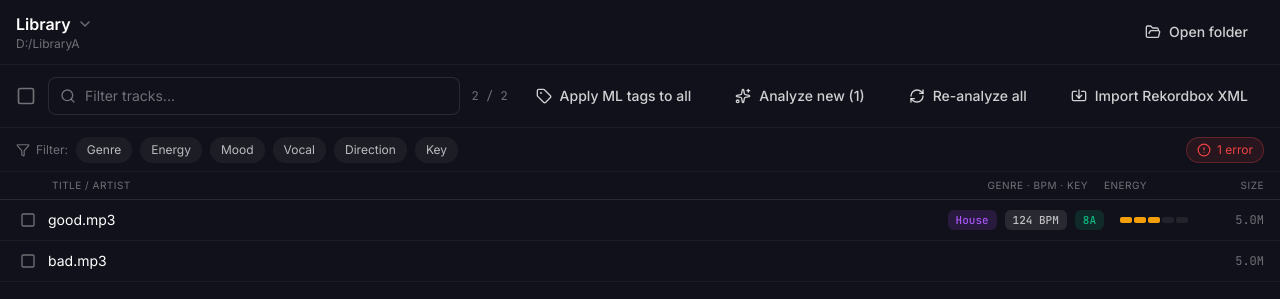
Test: <LibraryBrowser /> — state reset on library switch › clears the errors-only filter when switching to a clean library (bug #1)
Click the button "1 error" at (1225, 150), box [1186,136,1264,162]
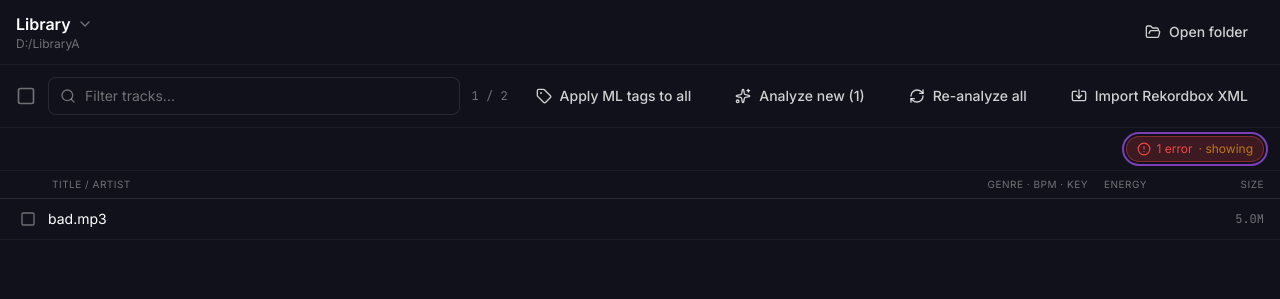
Result: the text "1 / 2" is shown at [472,88,508,104]
Click the button "Library" at (54, 24), box [16,12,93,36]
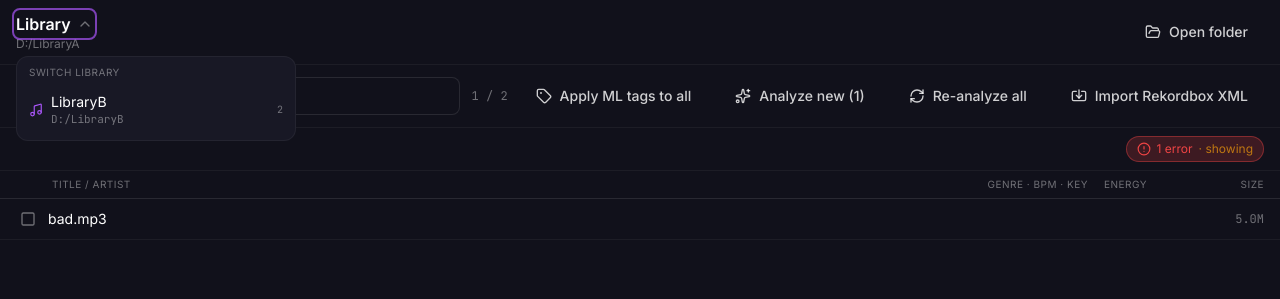
Click the option "LibraryB D:/LibraryB 2" at (79, 102), box [21,84,291,136]
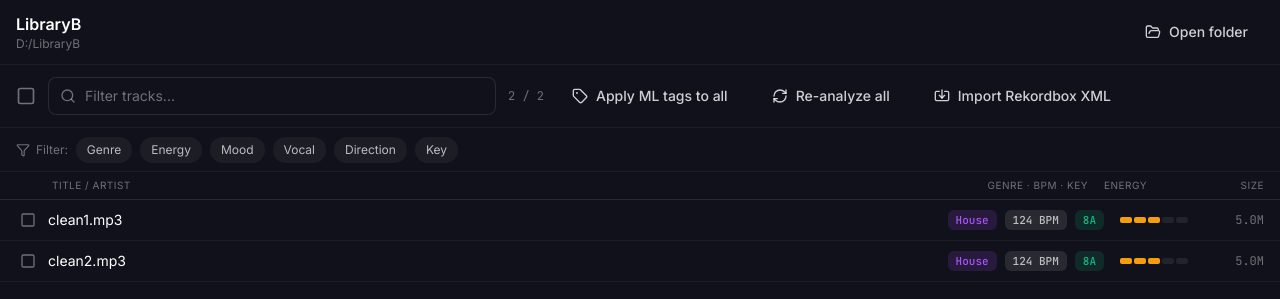
Result: the text "2 / 2" is shown at [508,88,544,104]
